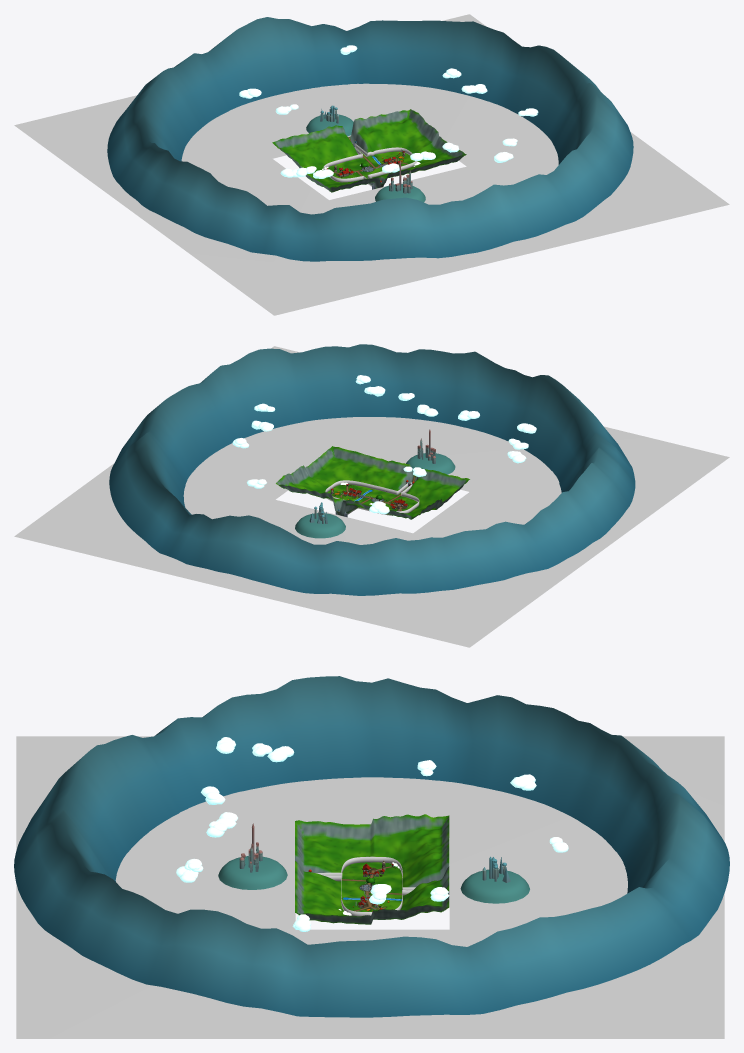
Rendered from Harita.fbx.
The picture shows the model from 3 angles, top to bottom: view 1: azimuth 30°, elevation 25°; view 2: azimuth 150°, elevation 25°; view 3: azimuth 270°, elevation 25°; orthographic projection. The views are drawn at different scales.
Visible parts, largest first — view 1: SM_Uzak_Daglar, SM_Uzak_Zemin, SM_Arazi, Bulutlar, SM_Uzak_Sehir_Turkce, COL_Sinir_Duvari, SM_Uzak_Sehir_Matematik; view 2: SM_Uzak_Daglar, SM_Uzak_Zemin, SM_Arazi, Bulutlar, SM_Uzak_Sehir_Matematik, SM_Uzak_Sehir_Turkce, COL_Sinir_Duvari; view 3: SM_Uzak_Daglar, SM_Uzak_Zemin, SM_Arazi, Bulutlar, SM_Uzak_Sehir_Turkce, SM_Uzak_Sehir_Matematik, COL_Sinir_Duvari.
Boxes of the visible parts, x1,y1,x2,y2 form: SM_Uzak_Daglar: [107, 17, 633, 261]; SM_Uzak_Zemin: [14, 14, 729, 315]; SM_Arazi: [272, 109, 466, 192]; Bulutlar: [239, 45, 538, 178]; SM_Uzak_Sehir_Turkce: [375, 160, 425, 202]; COL_Sinir_Duvari: [323, 143, 417, 186]; SM_Uzak_Sehir_Matematik: [306, 105, 353, 136]; SM_Uzak_Daglar: [109, 344, 635, 595]; SM_Uzak_Zemin: [14, 346, 729, 647]; SM_Arazi: [276, 446, 469, 519]; Bulutlar: [232, 375, 536, 514]; SM_Uzak_Sehir_Matematik: [295, 502, 345, 538]; SM_Uzak_Sehir_Turkce: [406, 429, 455, 474]; COL_Sinir_Duvari: [325, 480, 419, 515]; SM_Uzak_Daglar: [14, 676, 729, 1017]; SM_Uzak_Zemin: [16, 736, 724, 1038]; SM_Arazi: [295, 814, 449, 924]; Bulutlar: [176, 737, 568, 931]; SM_Uzak_Sehir_Turkce: [218, 823, 287, 889]; SM_Uzak_Sehir_Matematik: [460, 856, 529, 903]; COL_Sinir_Duvari: [316, 856, 415, 916].
Bounding box in the file's own units: 942 × 138 × 940.
